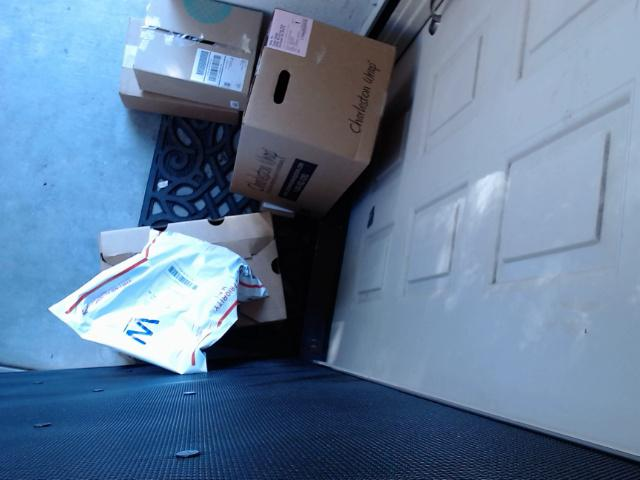box: (230, 15, 402, 205), (88, 204, 319, 317), (109, 0, 255, 131)
plastic_bag: (50, 238, 261, 370)
